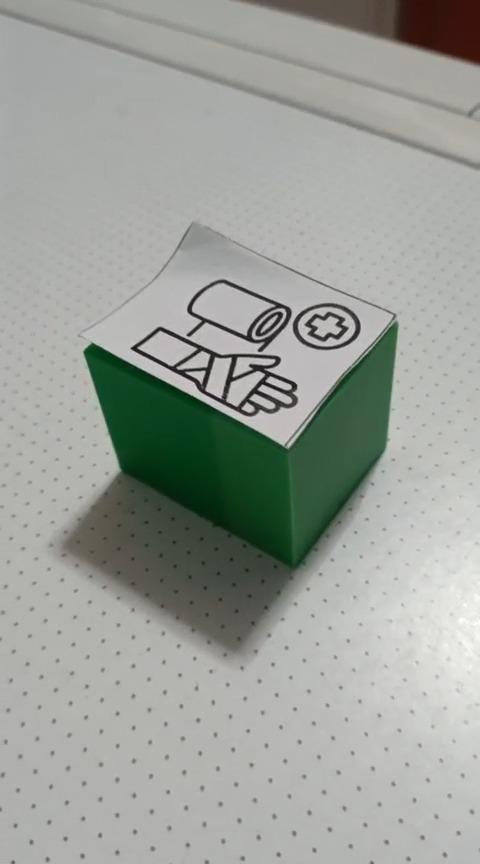Bandages: (77, 220, 399, 569)
